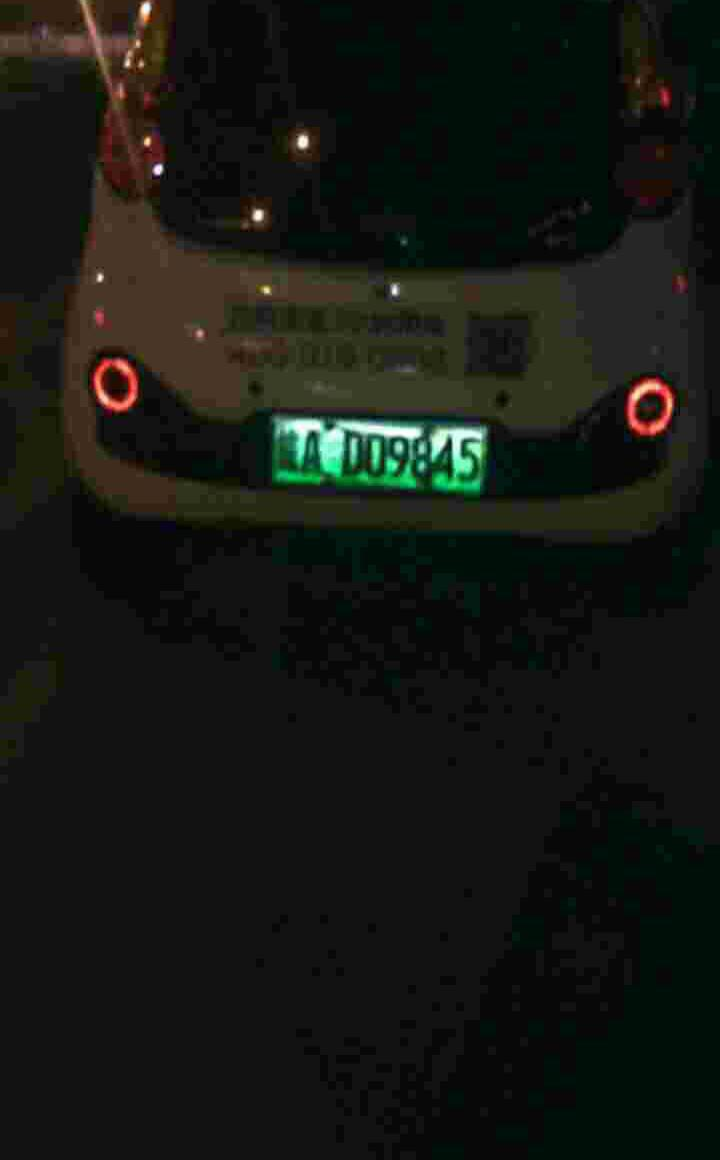car_green: (260, 407, 494, 500)
